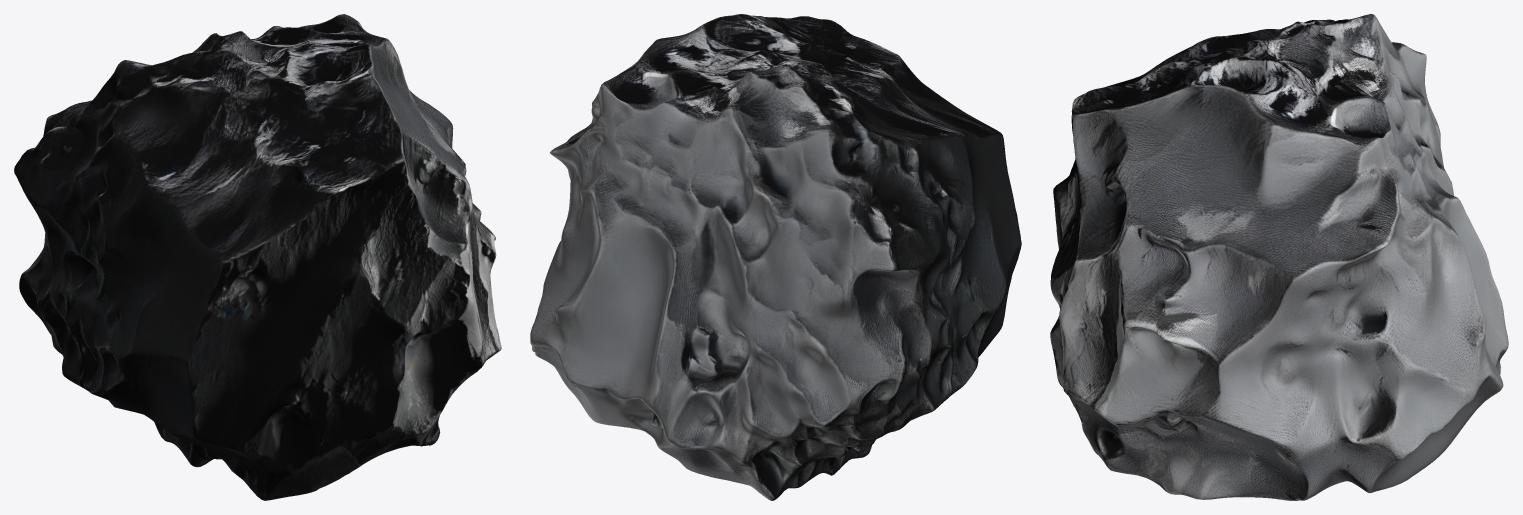
File: asteroid2.glb
3 views of the same model, side by side, from view 1: azimuth 30°, elevation 25°; view 2: azimuth 150°, elevation 25°; view 3: azimuth 270°, elevation 25° (orthographic). The views are drawn at different scales.
Parts seen in each view (by area): view 1: geometry_0; view 2: geometry_0; view 3: geometry_0.
Boxes of the visible parts, x1,y1,x2,y2 form: geometry_0: (14,14,501,500); geometry_0: (530,14,1021,500); geometry_0: (1050,14,1508,500).
Bounding box in the file's own units: 1.87 × 1.81 × 1.79.
Materials: 1 (1 with a texture image).
